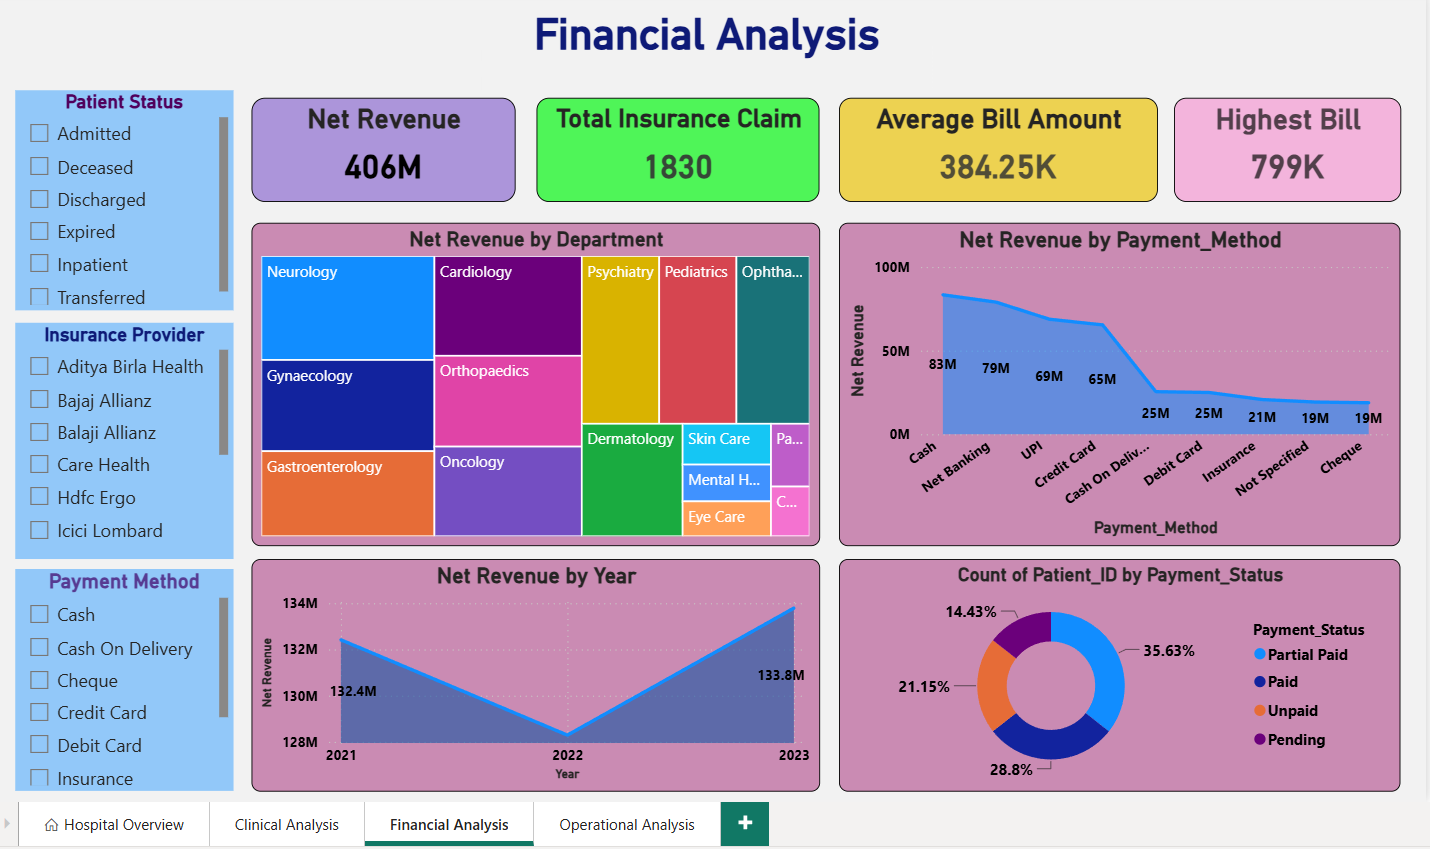

The page's visual inventory and layout, read from the dashboard file:
{"tool":"powerbi","page":{"name":"Financial Analysis","canvas":[1280,720],"ordinal":2},"visuals":[{"type":"slicer","title":"Patient Status","fields":{"Values":["Raw_Patient_Data.Patient_Status"]},"box":[23.5,86.2,194.3,195.9],"z":0},{"type":"slicer","title":"Insurance Provider","fields":{"Values":["Raw_Patient_Data.Insurance_Provider"]},"box":[23.5,293.1,194.3,210],"z":1000},{"type":"slicer","title":"Payment Method","fields":{"Values":["Raw_Patient_Data.Payment_Method"]},"box":[23.5,512.5,194.3,197.5],"z":2000},{"type":"card","title":"Net Revenue","fields":{"Values":["Raw_Patient_Data.Net Revenue"]},"box":[233.5,92.5,235.1,92.5],"z":3000},{"type":"card","title":"Highest Bill","fields":{"Values":["Raw_Patient_Data.Highest Bill"]},"box":[1054.8,92.5,202.2,92.5],"z":4000},{"type":"card","title":"Average Bill Amount","fields":{"Values":["Raw_Patient_Data.Average Bill Amount"]},"box":[757,92.5,283.7,92.5],"z":5000},{"type":"card","title":"Total Insurance Claim","fields":{"Values":["Raw_Patient_Data.Total Insurance Claim"]},"box":[487.4,92.5,252.3,92.5],"z":6000},{"type":"textbox","box":[255.6,293.5,384,86.8],"z":7000},{"type":"treemap","fields":{"Group":["Raw_Patient_Data.Department"],"Values":["Raw_Patient_Data.Net Revenue"]},"box":[233.5,203.7,506.2,288.4],"z":8000},{"type":"stackedAreaChart","fields":{"Category":["Raw_Patient_Data.Payment_Method"],"Y":["Raw_Patient_Data.Net Revenue"]},"box":[757,203.7,499.9,288.4],"z":9000},{"type":"stackedAreaChart","fields":{"Category":["Raw_Patient_Data.Admission_Date.Variation.Date Hierarchy.Year","Raw_Patient_Data.Admission_Date.Variation.Date Hierarchy.Quarter","Raw_Patient_Data.Admission_Date.Variation.Date Hierarchy.Month","Raw_Patient_Data.Admission_Date.Variation.Date Hierarchy.Day","Raw_Patient_Data.Department"],"Y":["Raw_Patient_Data.Net Revenue"]},"box":[233.5,503.1,506.2,206.9],"z":10000},{"type":"donutChart","fields":{"Category":["Raw_Patient_Data.Payment_Status"],"Y":["CountNonNull(Raw_Patient_Data.Patient_ID)"]},"box":[757,503.1,499.9,206.9],"z":11000},{"type":"textbox","title":"Financial Analysis","box":[438.6,15.7,402.8,58],"z":12000}]}

Visuals, with their boxes on the page's 1280x720 design canvas (x1, y1, x2, y2). These are canvas units, not pixel positions in the 1430x849 screenshot, which may show the page scaled, cropped or inside an application window:
"Patient Status" slicer: detection(24, 86, 218, 282)
"Insurance Provider" slicer: detection(24, 293, 218, 503)
"Payment Method" slicer: detection(24, 512, 218, 710)
"Net Revenue" card: detection(234, 92, 469, 185)
"Highest Bill" card: detection(1055, 92, 1257, 185)
"Average Bill Amount" card: detection(757, 92, 1041, 185)
"Total Insurance Claim" card: detection(487, 92, 740, 185)
textbox: detection(256, 294, 640, 380)
treemap - Raw_Patient_Data.Department x Raw_Patient_Data.Net Revenue: detection(234, 204, 740, 492)
stackedAreaChart - Raw_Patient_Data.Payment_Method x Raw_Patient_Data.Net Revenue: detection(757, 204, 1257, 492)
stackedAreaChart - Raw_Patient_Data.Admission_Date.Variation.Date Hierarchy.Year x Raw_Patient_Data.Admission_Date.Variation.Date Hierarchy.Quarter: detection(234, 503, 740, 710)
donutChart - Raw_Patient_Data.Payment_Status x CountNonNull(Raw_Patient_Data.Patient_ID): detection(757, 503, 1257, 710)
"Financial Analysis" textbox: detection(439, 16, 841, 74)
